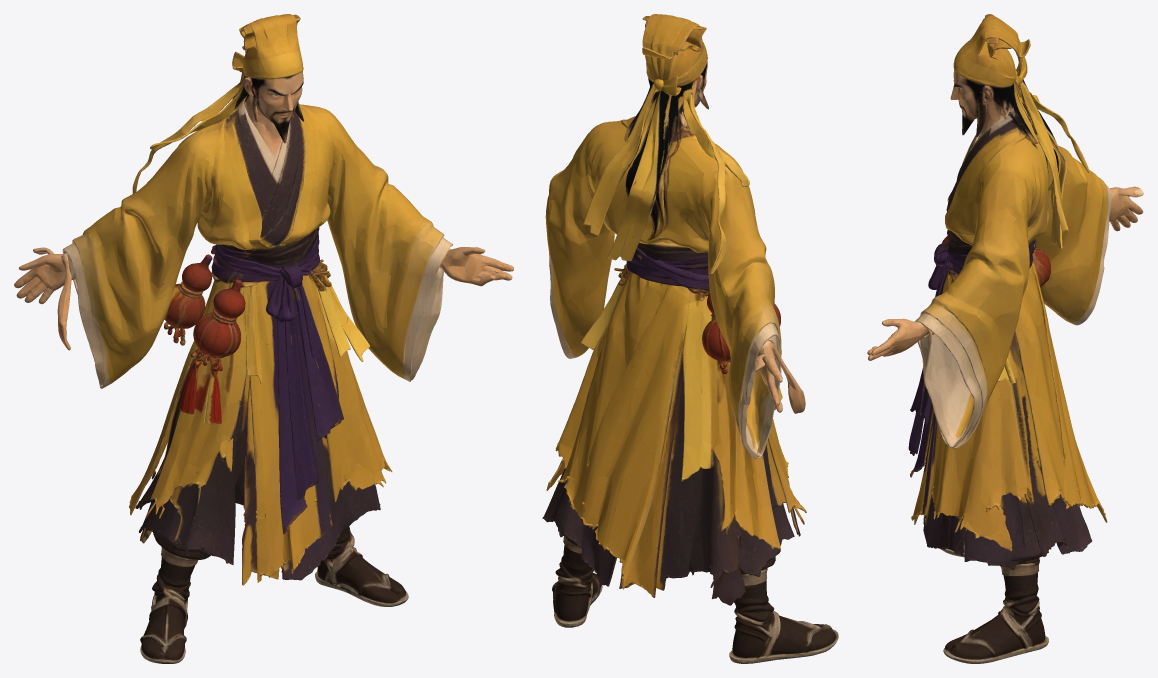
File: glb.glb
3 renders of one model, left to right at view 1: azimuth 30°, elevation 25°; view 2: azimuth 150°, elevation 25°; view 3: azimuth 270°, elevation 25°, orthographic. The views are drawn at different scales.
Bounding box in the file's own units: 1.2 × 1.9 × 0.8165.
1 material, 1 textured.
